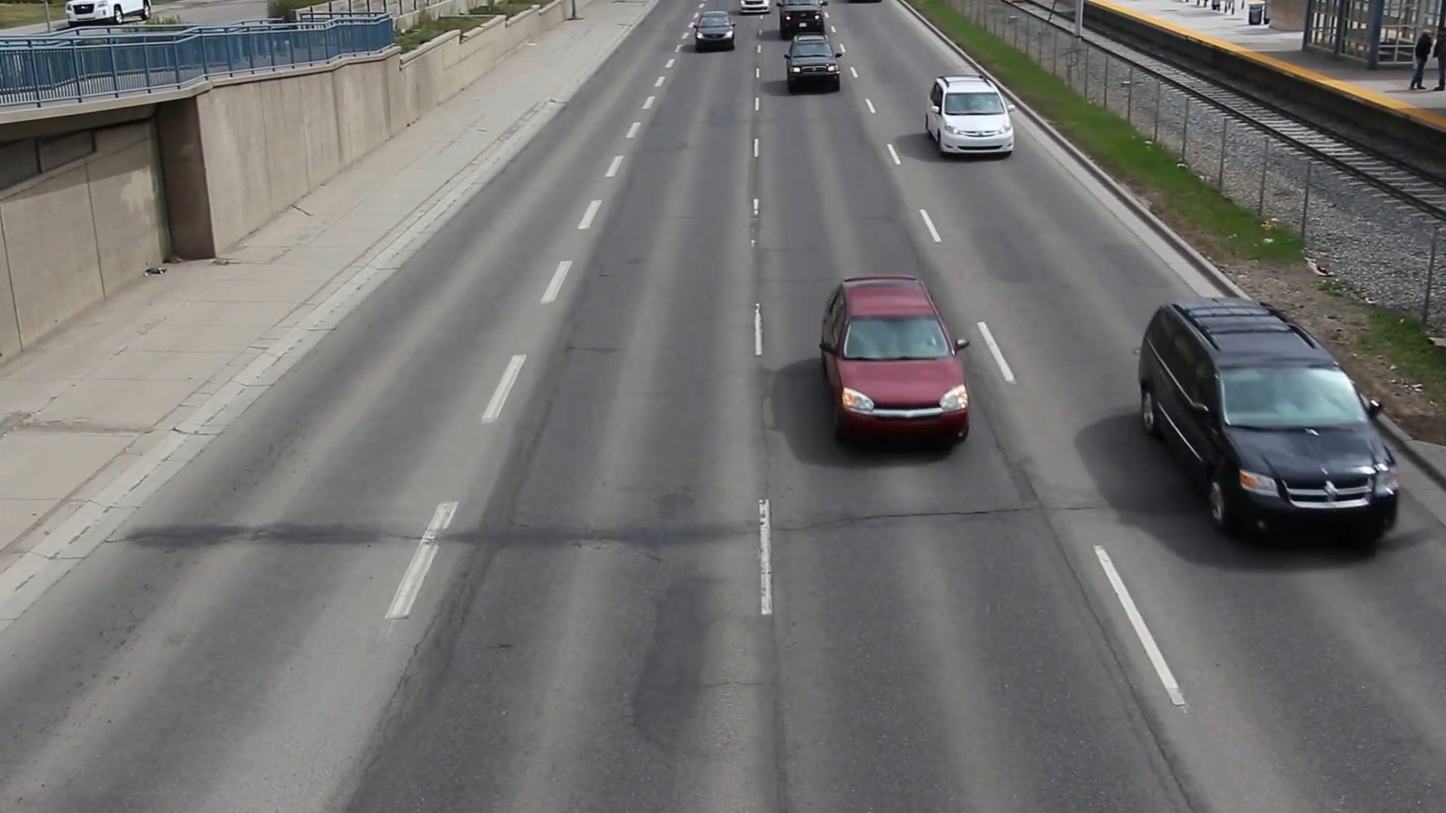car: (1130, 294, 1414, 547), (816, 273, 978, 447), (925, 68, 1021, 170), (780, 32, 846, 101)
